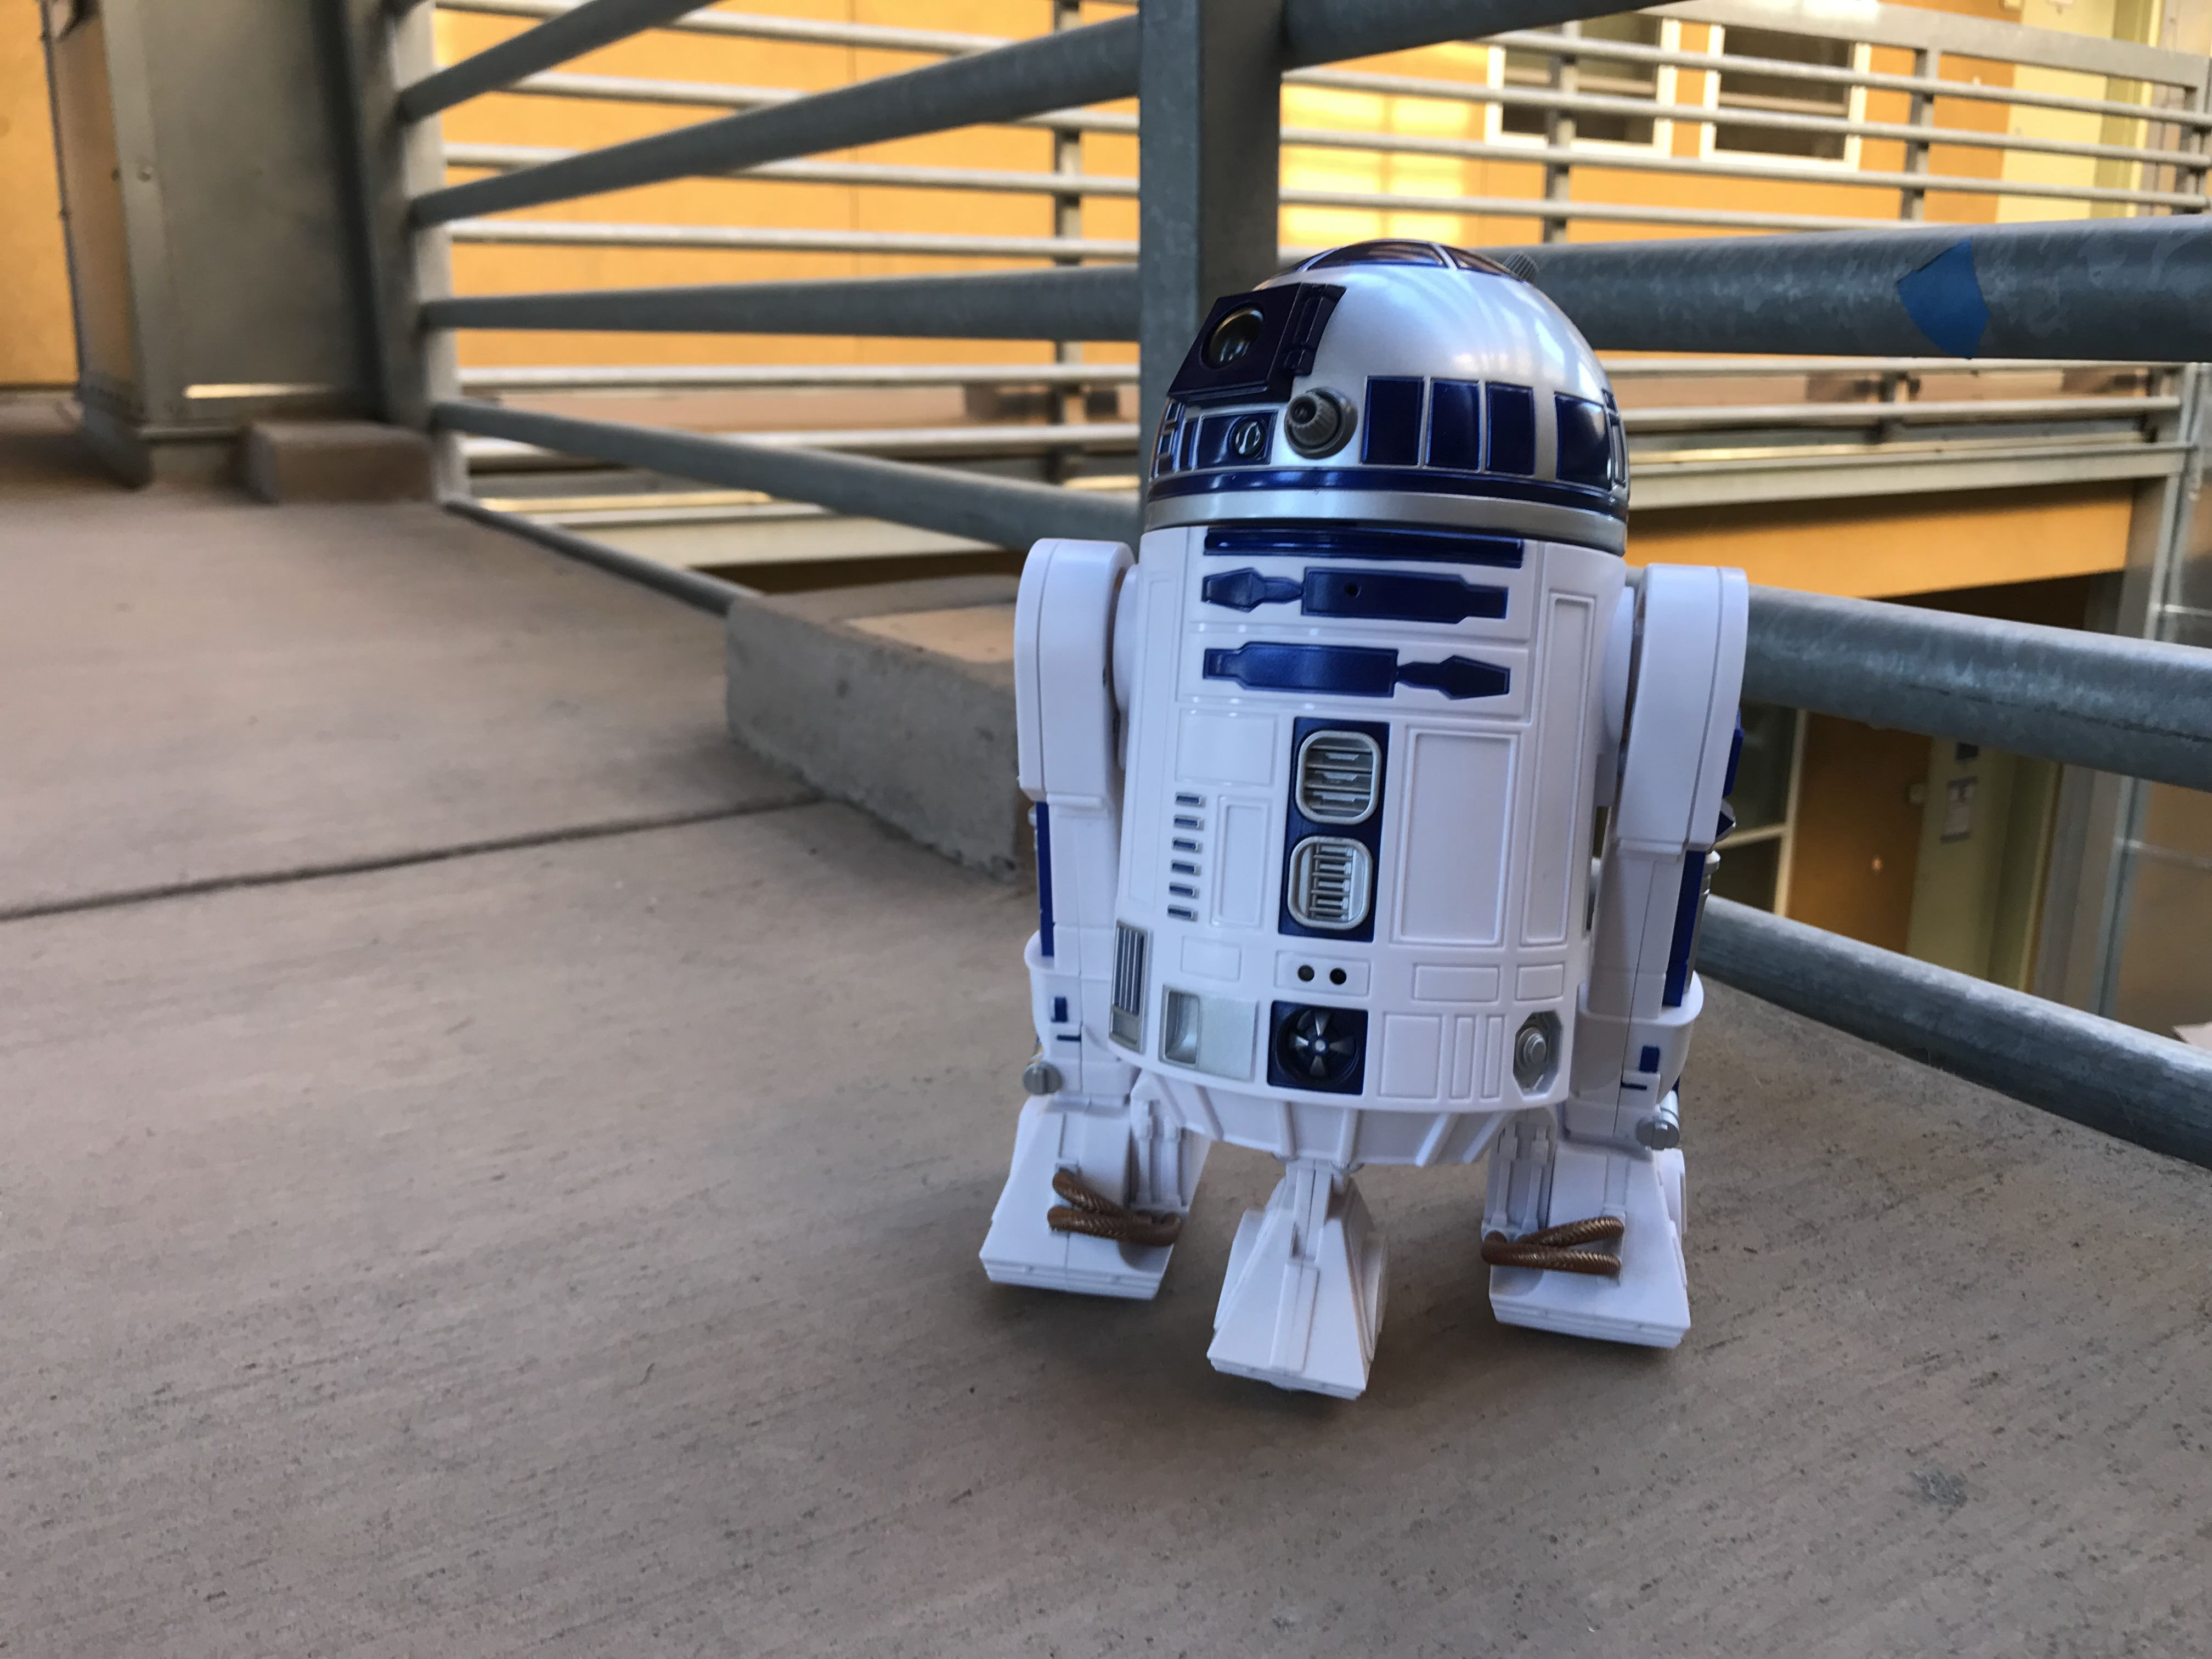r2d2: (989, 237, 1749, 1406)
